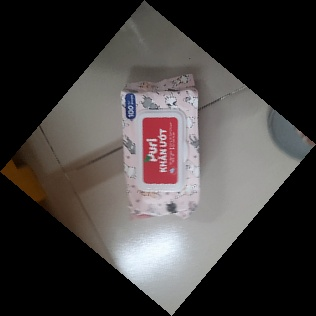Puri hong: (118, 74, 204, 220)
